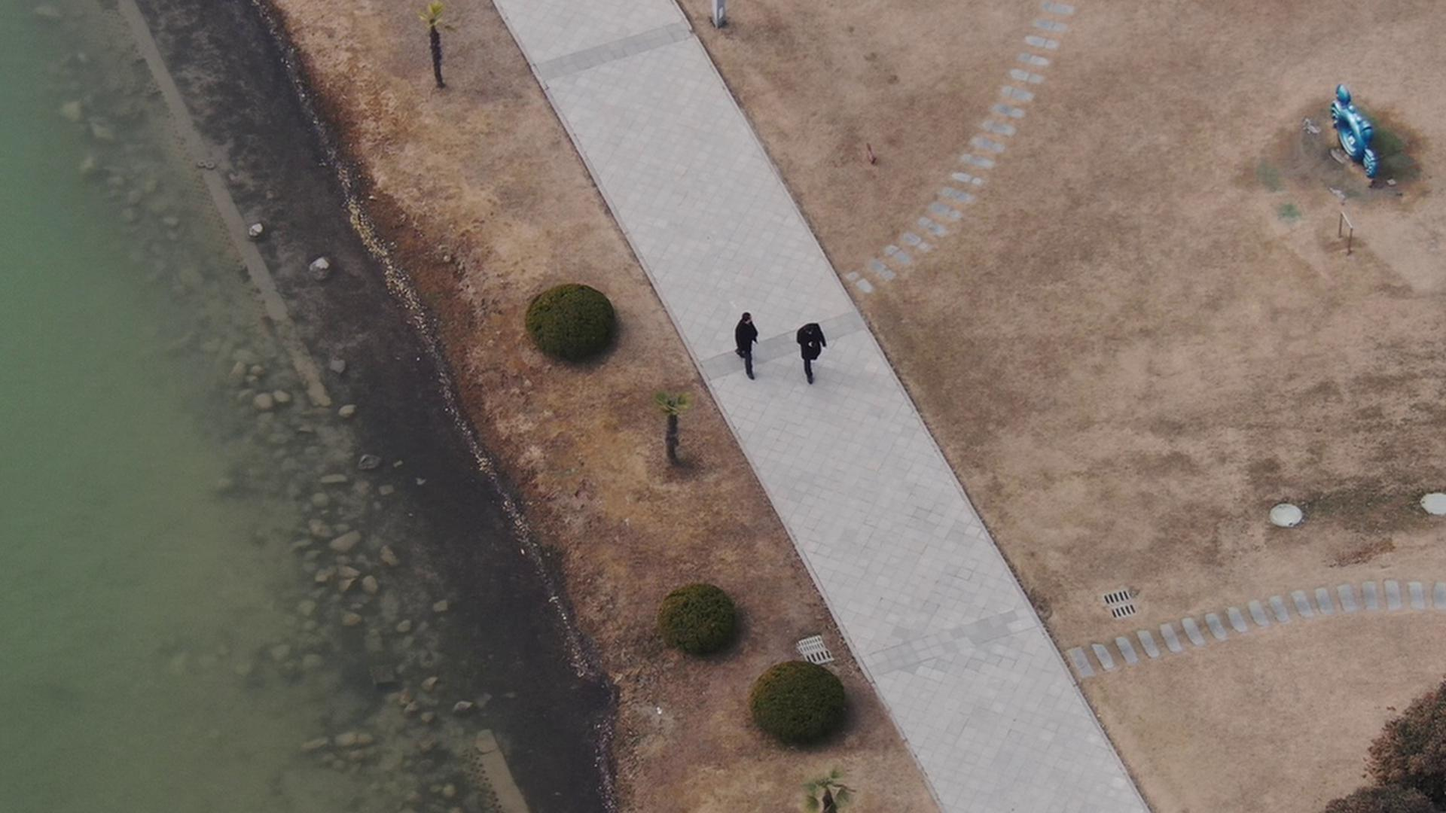human: (782, 312, 827, 393), (719, 300, 759, 391)
